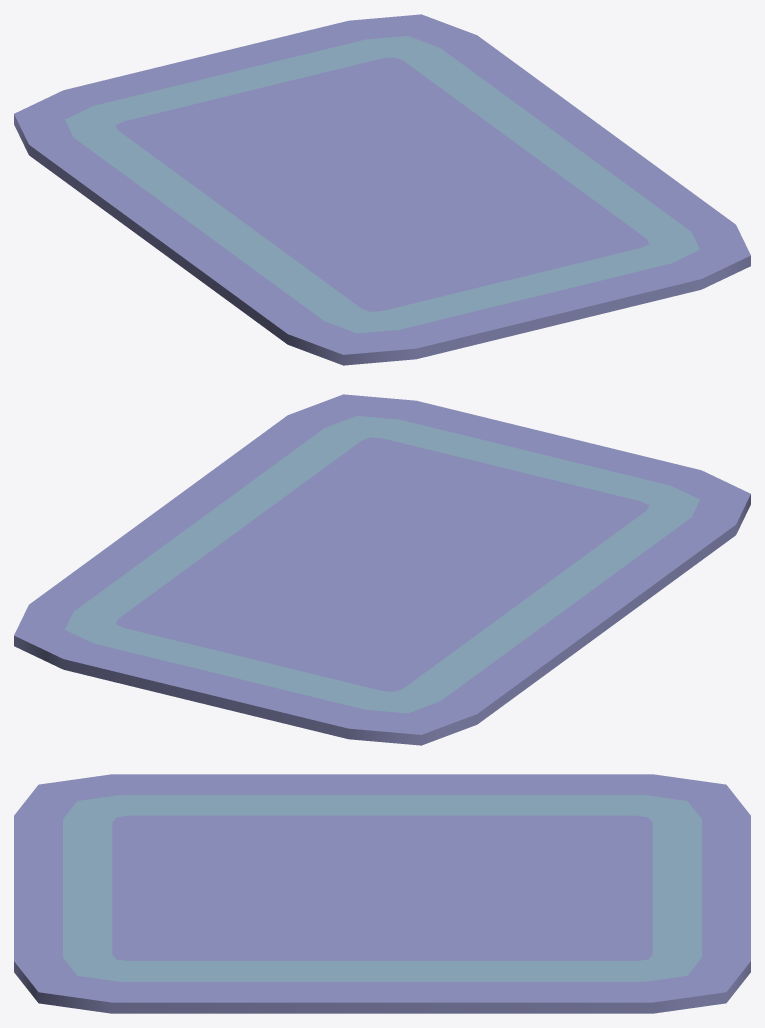
Rendered from carpet-rectangle-line-small.glb.
3 views of the same model, one above another, from view 1: azimuth 30°, elevation 25°; view 2: azimuth 150°, elevation 25°; view 3: azimuth 270°, elevation 25° (orthographic). The views are drawn at different scales.
Parts seen in each view (by area): view 1: carpet-rectangle-line-small; view 2: carpet-rectangle-line-small; view 3: carpet-rectangle-line-small.
Boxes of the visible parts, x1=… form: carpet-rectangle-line-small: x1=14, y1=14, x2=750, y2=365; carpet-rectangle-line-small: x1=14, y1=394, x2=750, y2=745; carpet-rectangle-line-small: x1=14, y1=774, x2=750, y2=1013.
Bounding box in the file's own units: 1.1 × 0.025 × 1.5.
